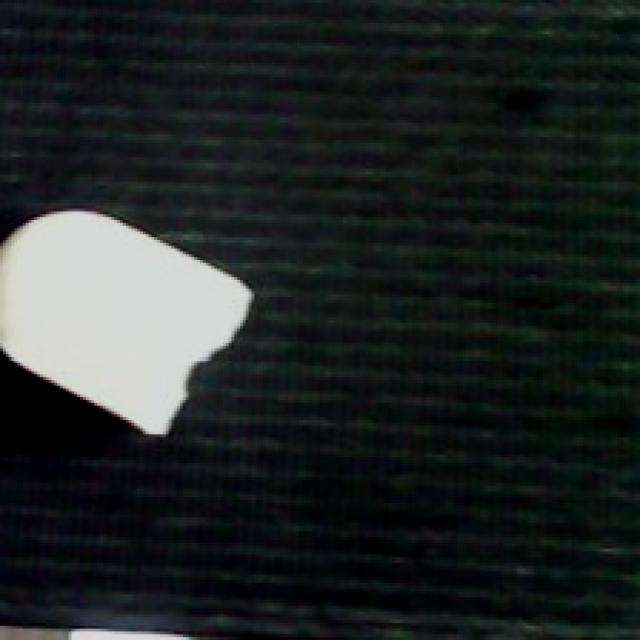defected: (3, 203, 260, 448)
